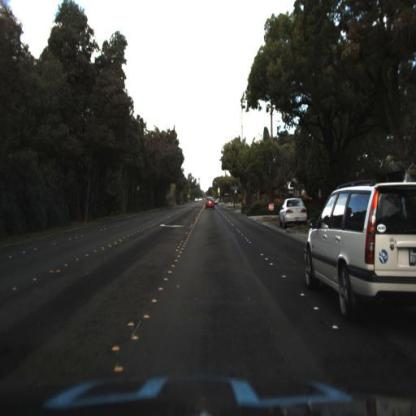car: (302, 172, 416, 333), (280, 196, 308, 228), (205, 193, 217, 215)
